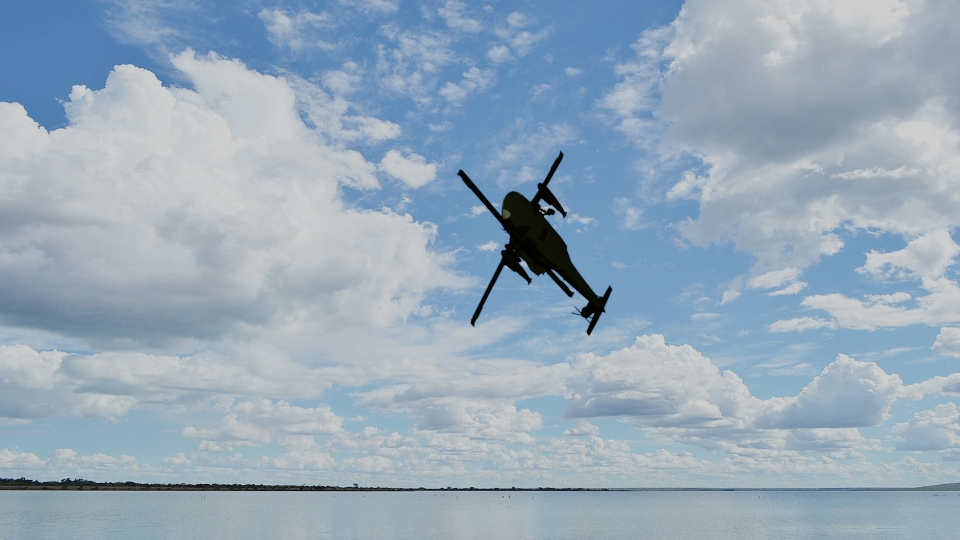heli: (458, 150, 617, 328)
